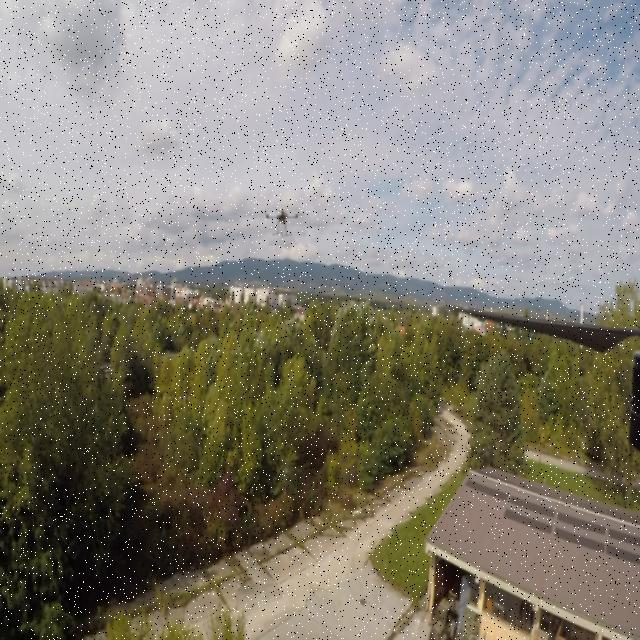UAV: (254, 202, 310, 242)
